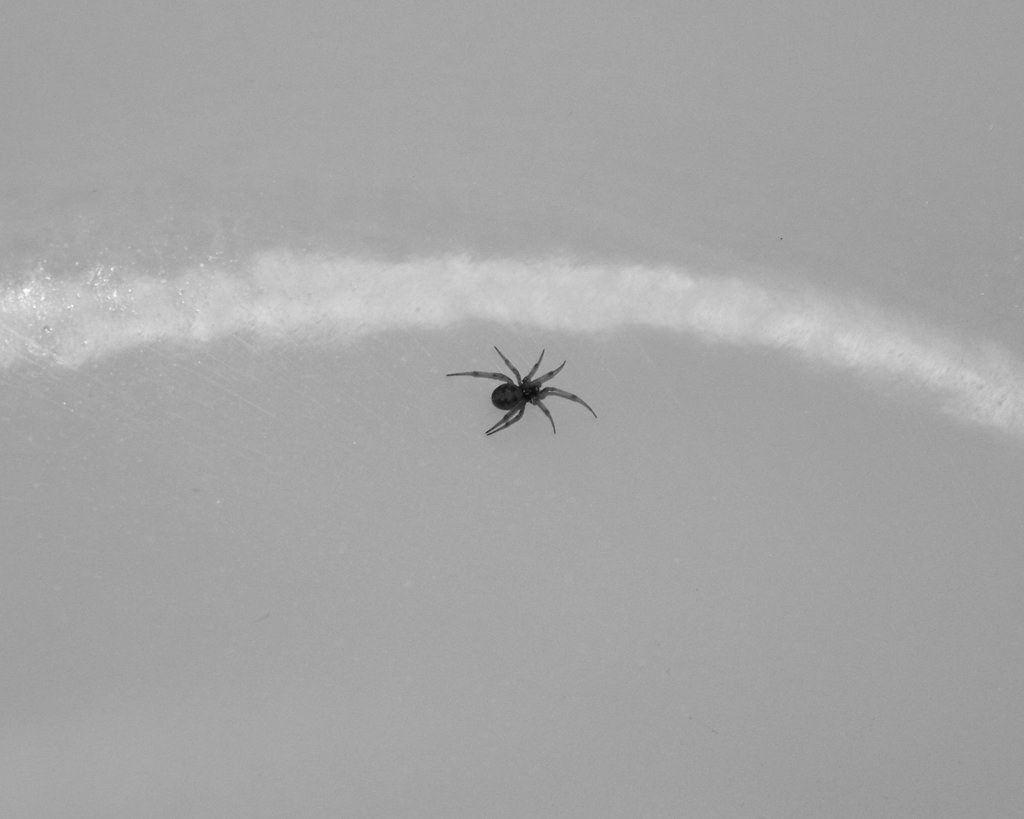insect: (436, 344, 607, 447), (447, 347, 599, 437)
